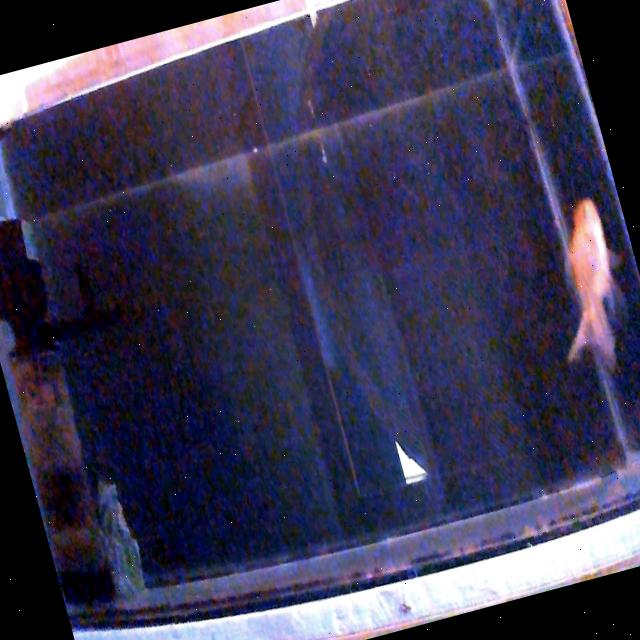fish: (527, 193, 640, 381)
